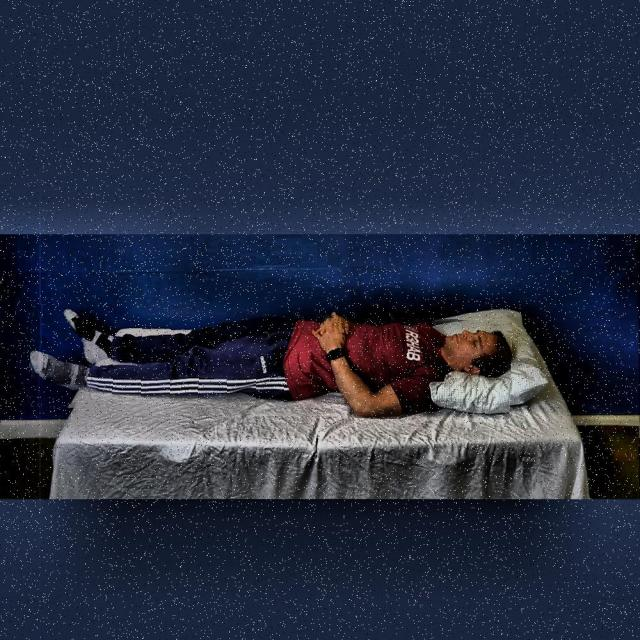Supine: (30, 310, 512, 419)
